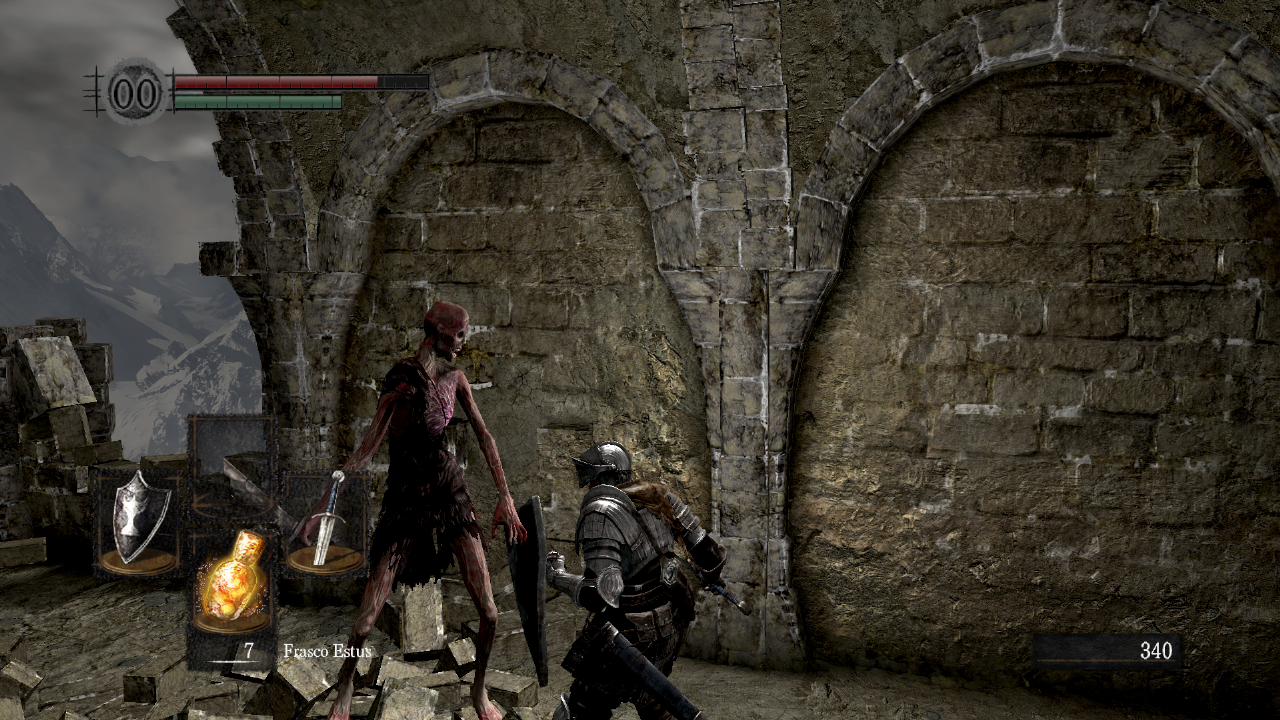hollow: (222, 301, 529, 720)
player: (506, 442, 752, 720)
